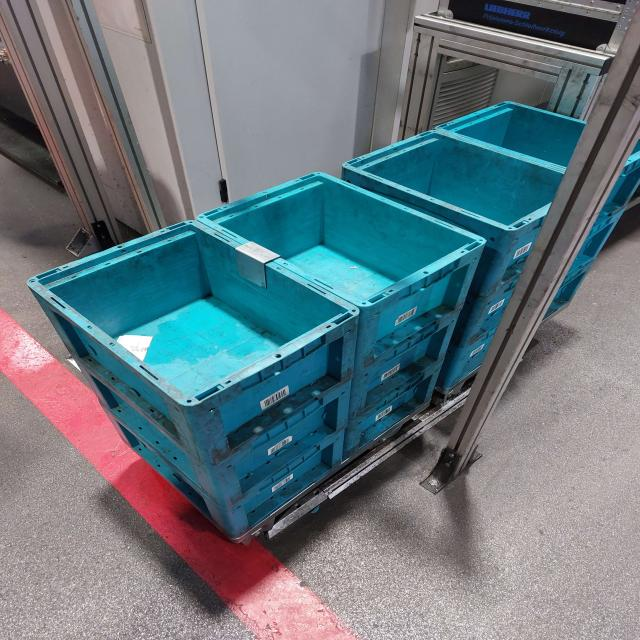BoxB4: (33, 217, 360, 457), (198, 169, 486, 335), (345, 130, 572, 274), (81, 366, 351, 482), (434, 98, 636, 223), (105, 434, 353, 532), (319, 375, 467, 446), (314, 322, 454, 390)
